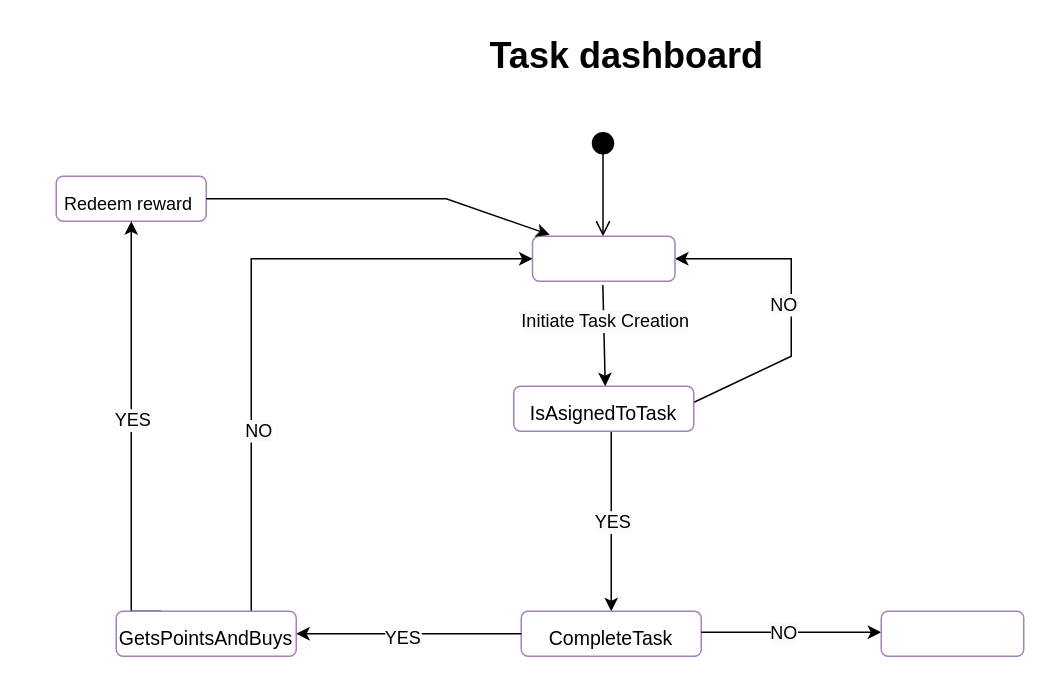
This 1050x683 diagram has some shape labels left out. The box of each missing label's shape, as (x1, y1, x2, y2) in pixels:
it expires: (880, 610, 1024, 656)
task selector: (531, 235, 675, 281)
